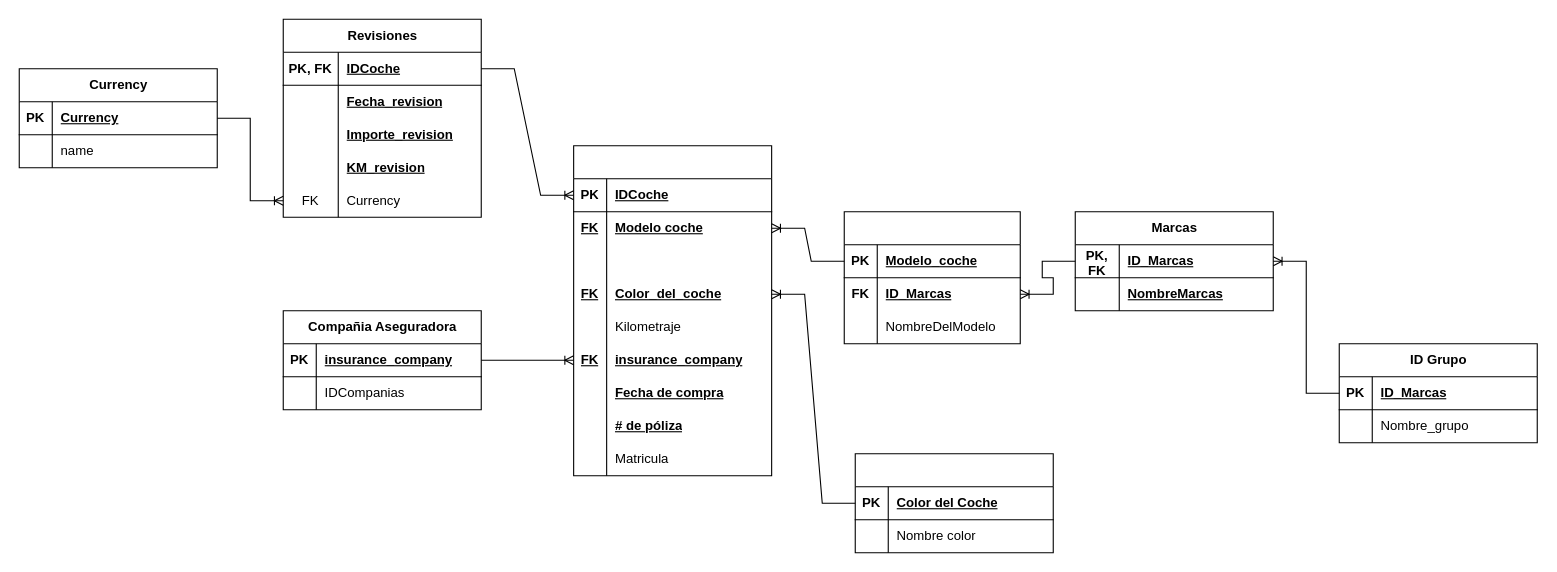
The diagram is 1557 pixels wide and 572 high, and some of its shapes have lost their labels. The shapes that lost their labels are listed below. From the top down, each one's box as (x1, y1, x2, y2) in pixels, then its label:
(843, 211, 1020, 344): Modelos Coche
(573, 145, 772, 476): Coches de la empresa
(854, 453, 1053, 553): Color de coche
